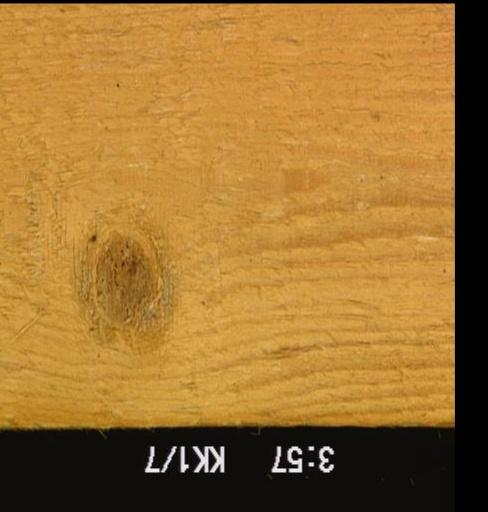sound_knot: (74, 218, 172, 346)
